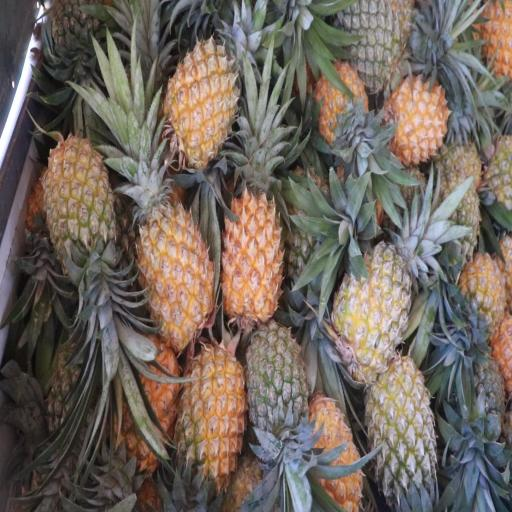------------------------------: (366, 362, 434, 507), (334, 240, 408, 370)
Pineapple - v8 v1: (138, 182, 213, 350), (46, 134, 113, 278), (166, 42, 240, 167), (180, 347, 246, 486), (221, 187, 282, 334), (117, 344, 180, 465), (302, 405, 361, 511), (391, 78, 450, 163), (313, 66, 370, 153), (456, 251, 506, 344)
